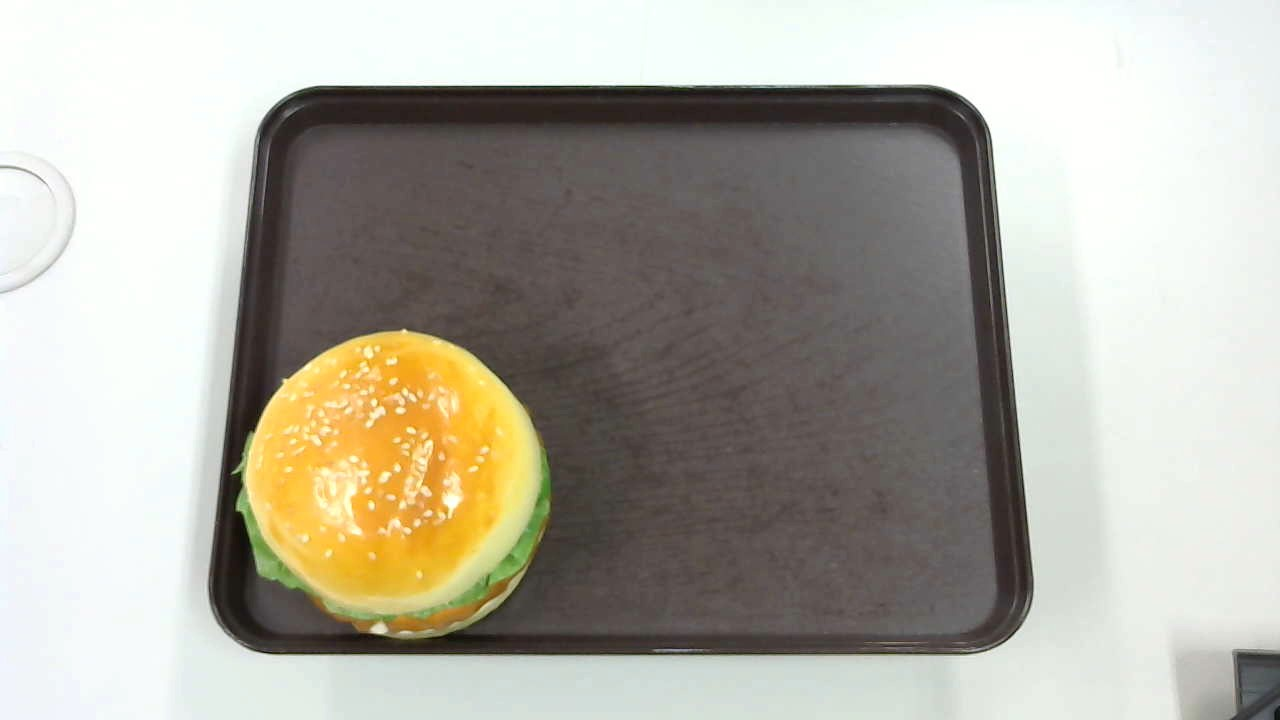hamburger: (232, 327, 550, 642)
